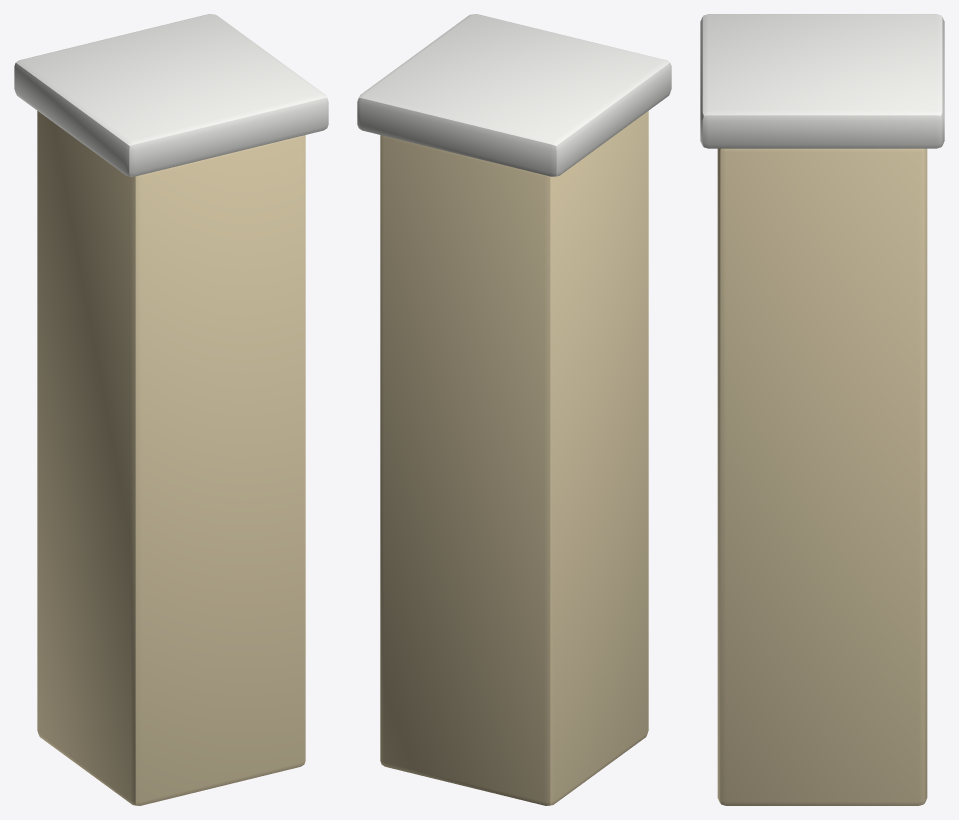
The model's file is cerca_muro_fim.glb.
The picture shows the model from 3 angles, left to right: view 1: azimuth 30°, elevation 25°; view 2: azimuth 150°, elevation 25°; view 3: azimuth 270°, elevation 25°; orthographic projection. The views are drawn at different scales.
Visible parts, largest first — view 1: cerca_muro_fim; view 2: cerca_muro_fim; view 3: cerca_muro_fim.
Boxes of the visible parts, left/top/right/bottom form: cerca_muro_fim: left=14, top=14, right=328, bottom=805; cerca_muro_fim: left=357, top=14, right=671, bottom=805; cerca_muro_fim: left=700, top=14, right=944, bottom=805.
Bounding box in the file's own units: 0.35 × 1.11 × 0.35.
Materials: 1 (1 with a texture image).
